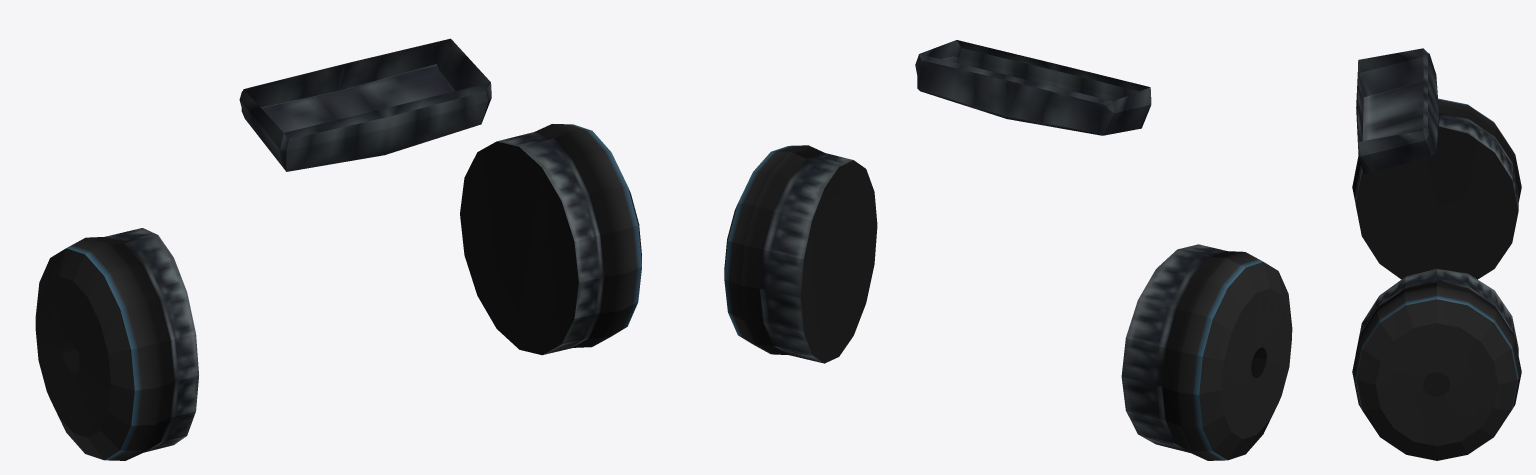
File: headphones1.fbx
The picture shows the model from 3 angles, left to right: view 1: azimuth 30°, elevation 25°; view 2: azimuth 150°, elevation 25°; view 3: azimuth 270°, elevation 25°; orthographic projection. The views are drawn at different scales.
Parts seen in each view (by area): view 1: headphones1; view 2: headphones1; view 3: headphones1.
Part boxes in pixels (x1,y1,x2,y2): headphones1: (35,38,641,460); headphones1: (724,40,1292,460); headphones1: (1352,48,1521,460).
Size of the model in its own units: 36.32 by 20.94 by 10.78.
